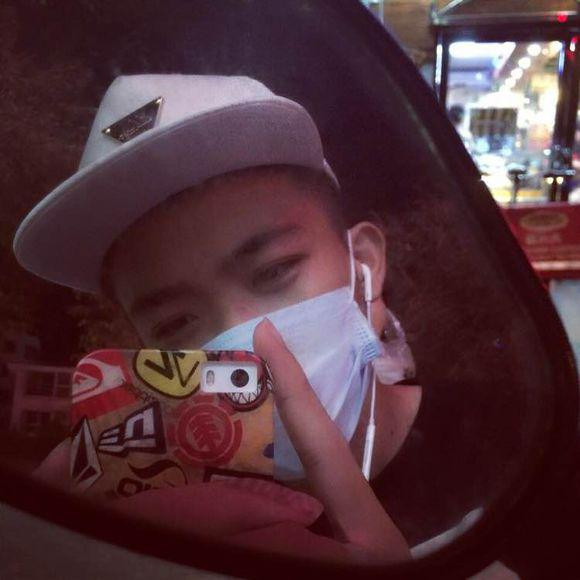OK: (125, 214, 374, 463)
